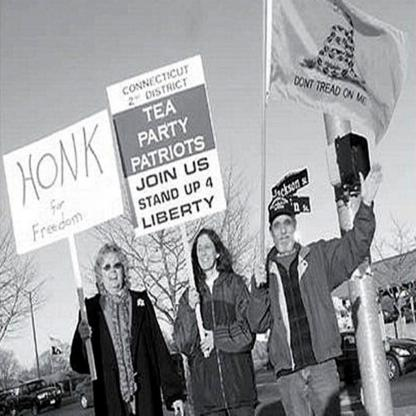face: (273, 215, 297, 252), (102, 252, 123, 289), (198, 236, 217, 270)
